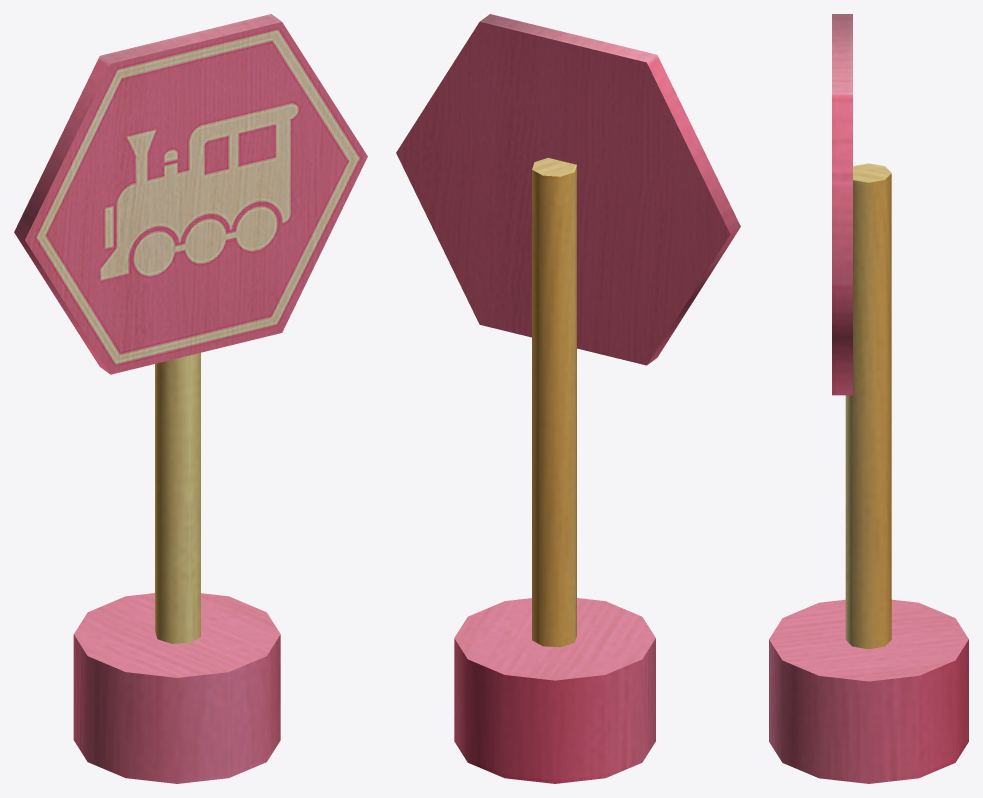
Rendered from Doll_OB_ToyTrainDec_001.FBX.
3 renders of one model, left to right at view 1: azimuth 30°, elevation 25°; view 2: azimuth 150°, elevation 25°; view 3: azimuth 270°, elevation 25°, orthographic. The views are drawn at different scales.
Parts seen in each view (by area): view 1: Doll_OB_ToyTrainDec_001; view 2: Doll_OB_ToyTrainDec_001; view 3: Doll_OB_ToyTrainDec_001.
Boxes of the visible parts, box(x1,y1,x2,y2) form: Doll_OB_ToyTrainDec_001: box(14, 14, 367, 783); Doll_OB_ToyTrainDec_001: box(396, 14, 740, 783); Doll_OB_ToyTrainDec_001: box(769, 14, 968, 783).
Size of the model in its own units: 6.13 by 12.14 by 3.2.
